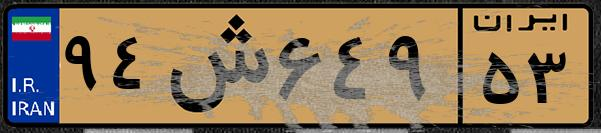3: (525, 38, 570, 115)
4: (330, 28, 385, 110), (110, 28, 158, 98)
5: (475, 38, 525, 113)
6: (270, 28, 330, 110)
9: (385, 28, 445, 110), (57, 26, 110, 100)
ش: (158, 12, 270, 120)
